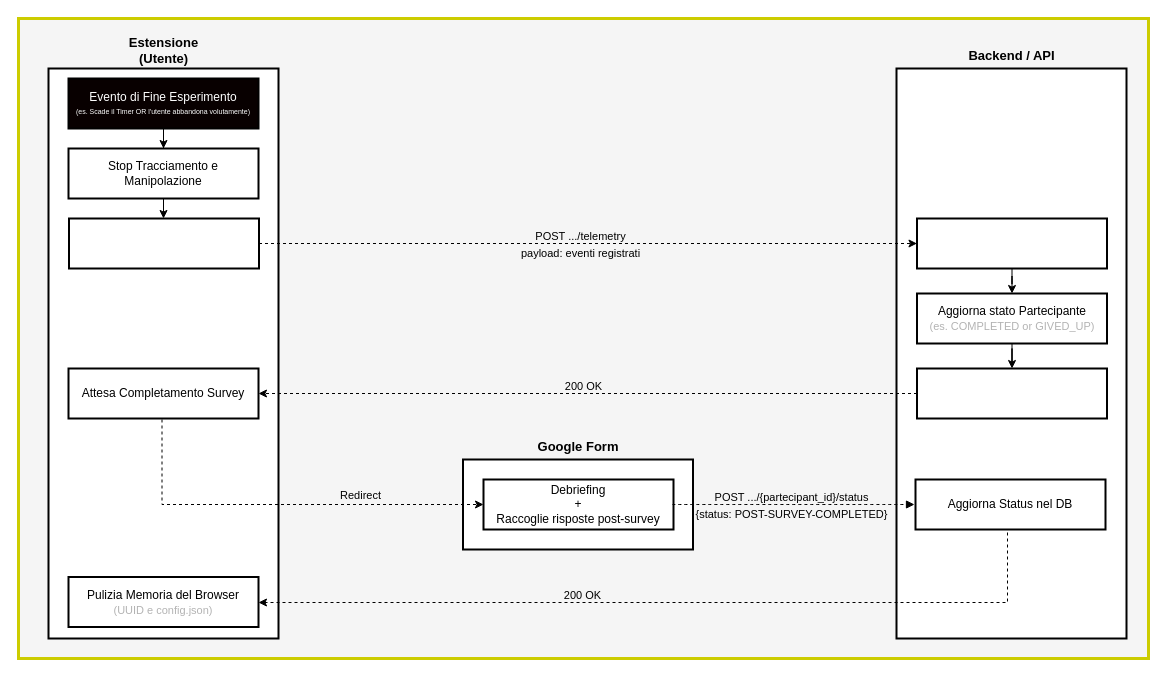
Some shapes in this 1167 by 677 pixel diagram are drawn without their labels. The shapes that lost their labels are listed below. From the top down, each one's centre as x and y in pixels, then its label:
At (x=164, y=243): "Invio Telemetria (Flush del Buffer per salvare gli ultimi dati)".
At (x=1012, y=243): "Salva Telemetria nel DB".
At (x=1012, y=393): "Generazione Deep Link (es. google.forms?uuid=1234)".
